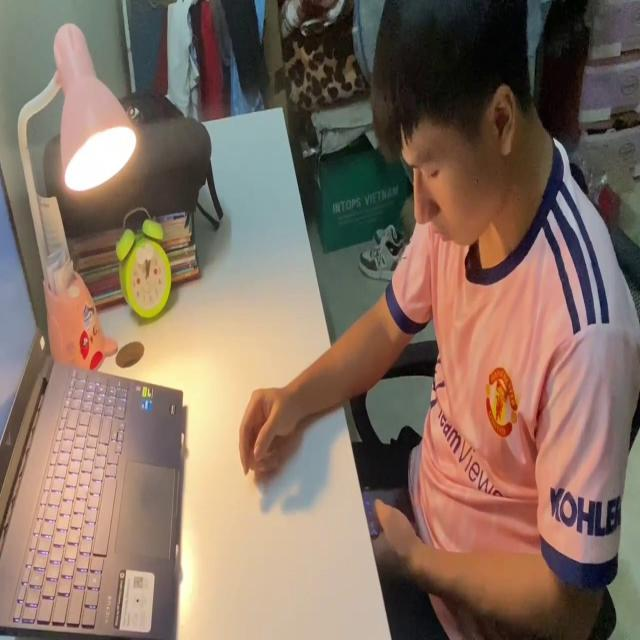laptop: (0, 161, 186, 640)
phone: (357, 478, 415, 548)
student: (236, 0, 640, 640)
